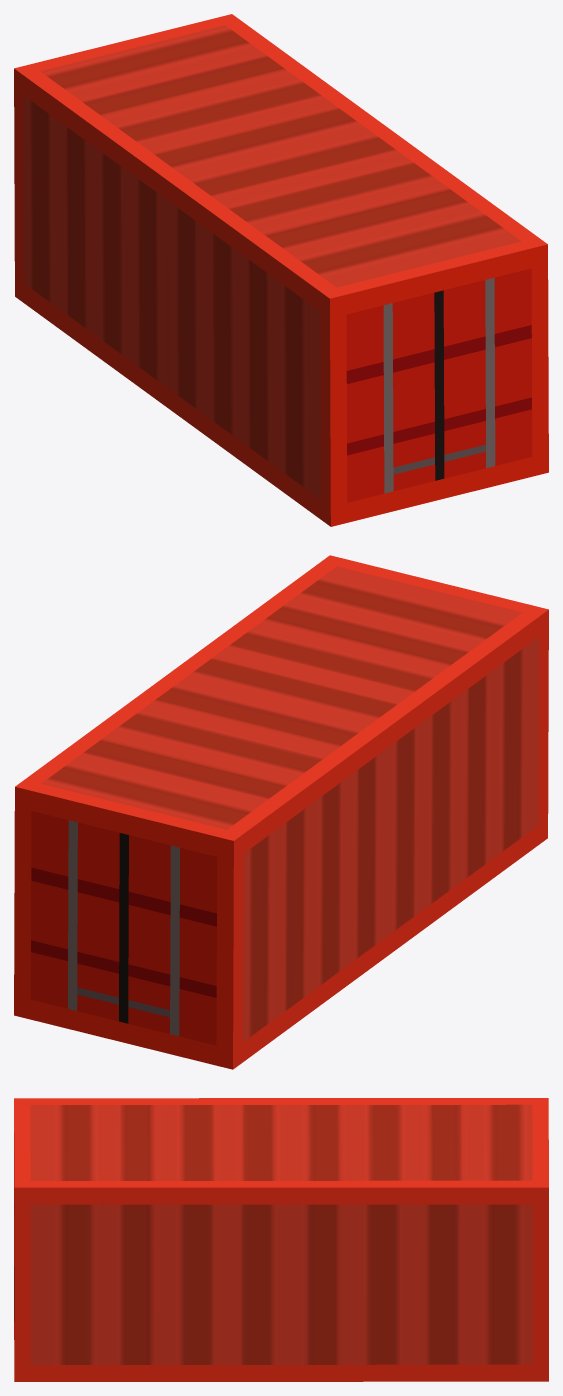
The model's file is Red container.fbx.
3 renders of one model, top to bottom at view 1: azimuth 30°, elevation 25°; view 2: azimuth 150°, elevation 25°; view 3: azimuth 270°, elevation 25°, orthographic. The views are drawn at different scales.
Visible parts, largest first — view 1: SA_Prop_ShippingContainer_01; view 2: SA_Prop_ShippingContainer_01; view 3: SA_Prop_ShippingContainer_01.
Part boxes in pixels (x1,y1,x2,y2): SA_Prop_ShippingContainer_01: (14, 14, 548, 526); SA_Prop_ShippingContainer_01: (14, 555, 548, 1069); SA_Prop_ShippingContainer_01: (14, 1098, 548, 1381).
Size of the model in its own units: 5.88 by 5.86 by 14.59.
